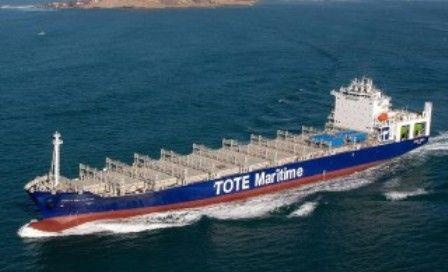Cargoship: (24, 77, 437, 234)
